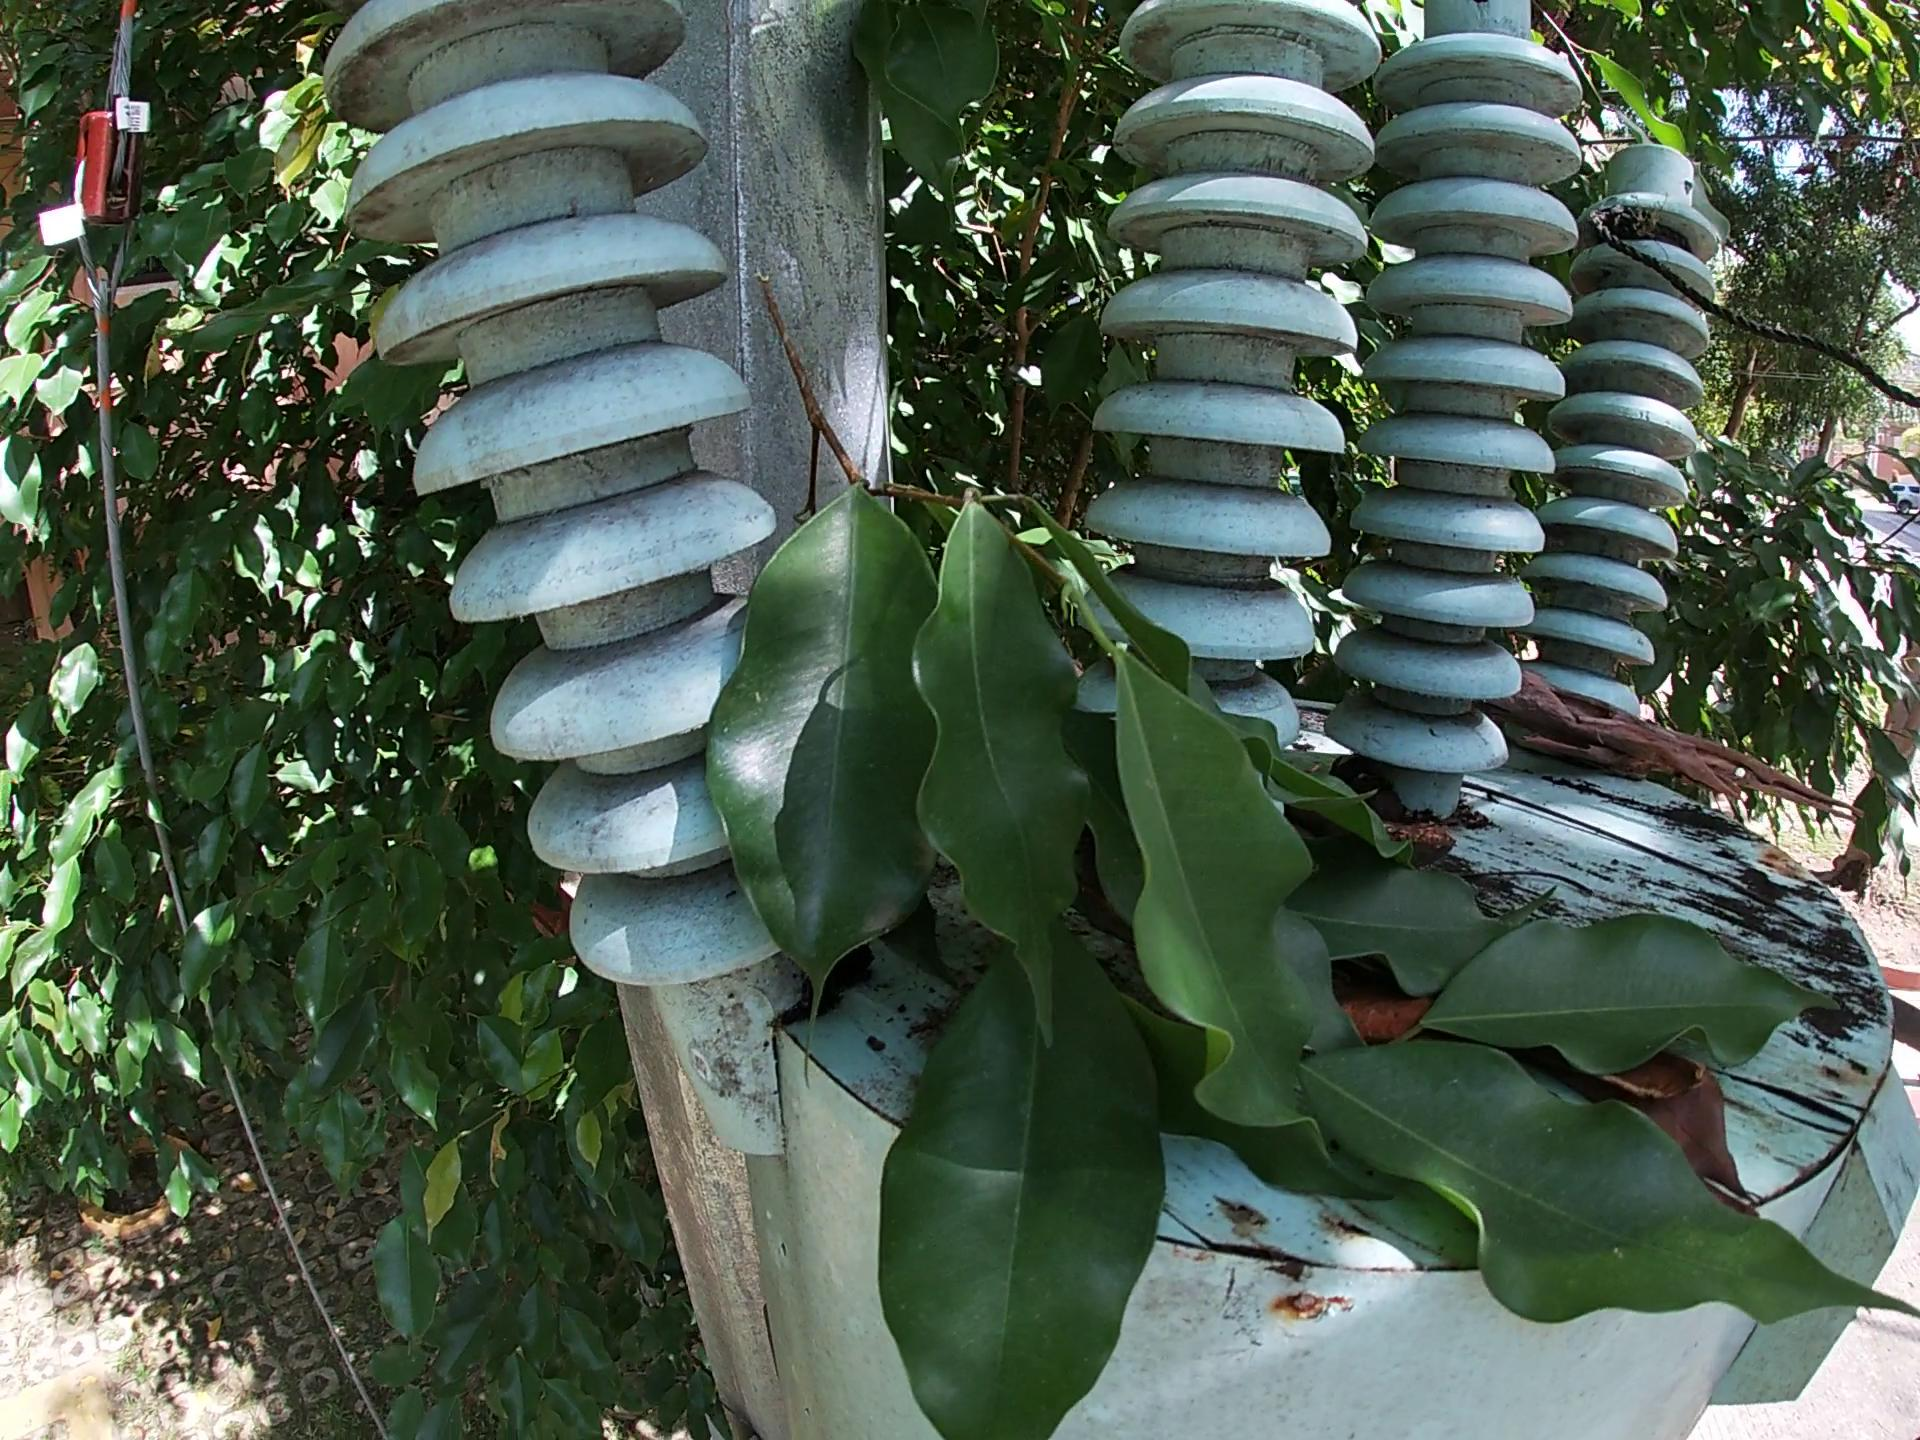branch with leaves: (717, 251, 1914, 1429)
leaf: (1648, 1085, 1761, 1203), (1346, 979, 1438, 1059)
mahogany fruit: (1593, 1047, 1692, 1142), (1371, 805, 1463, 852)
tree branch: (1451, 641, 1875, 846)
